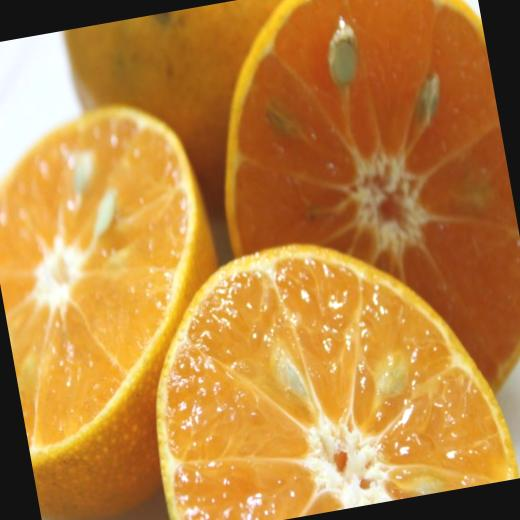Grape: (0, 0, 520, 520), (189, 0, 520, 434), (125, 211, 520, 520), (0, 90, 258, 520), (65, 0, 329, 280)
